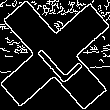L_NW: (27, 26, 83, 84)
